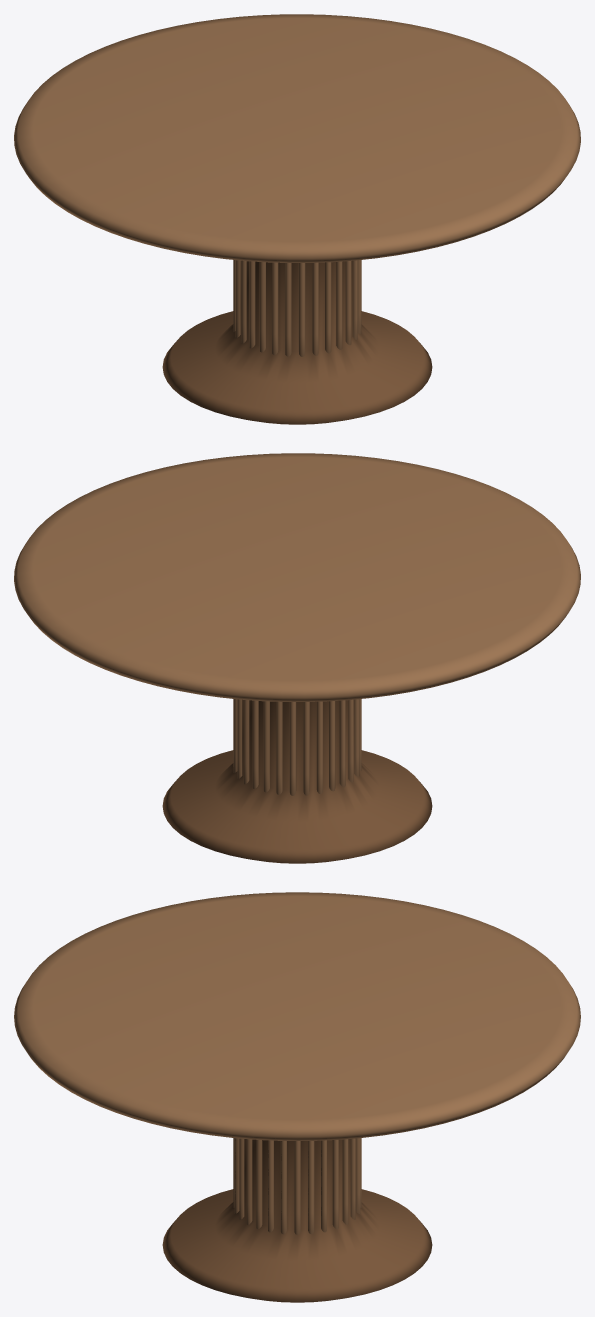
The model's file is diningtable.glb.
3 renders of one model, top to bottom at view 1: azimuth 30°, elevation 25°; view 2: azimuth 150°, elevation 25°; view 3: azimuth 270°, elevation 25°, orthographic.
Parts seen in each view (by area): view 1: Atelier_Diningtable; view 2: Atelier_Diningtable; view 3: Atelier_Diningtable.
Boxes of the visible parts, x1,y1,x2,y2 form: Atelier_Diningtable: (14, 14, 580, 424); Atelier_Diningtable: (14, 453, 580, 863); Atelier_Diningtable: (14, 892, 580, 1302).
Size of the model in its own units: 2.06 by 0.985 by 2.06.
